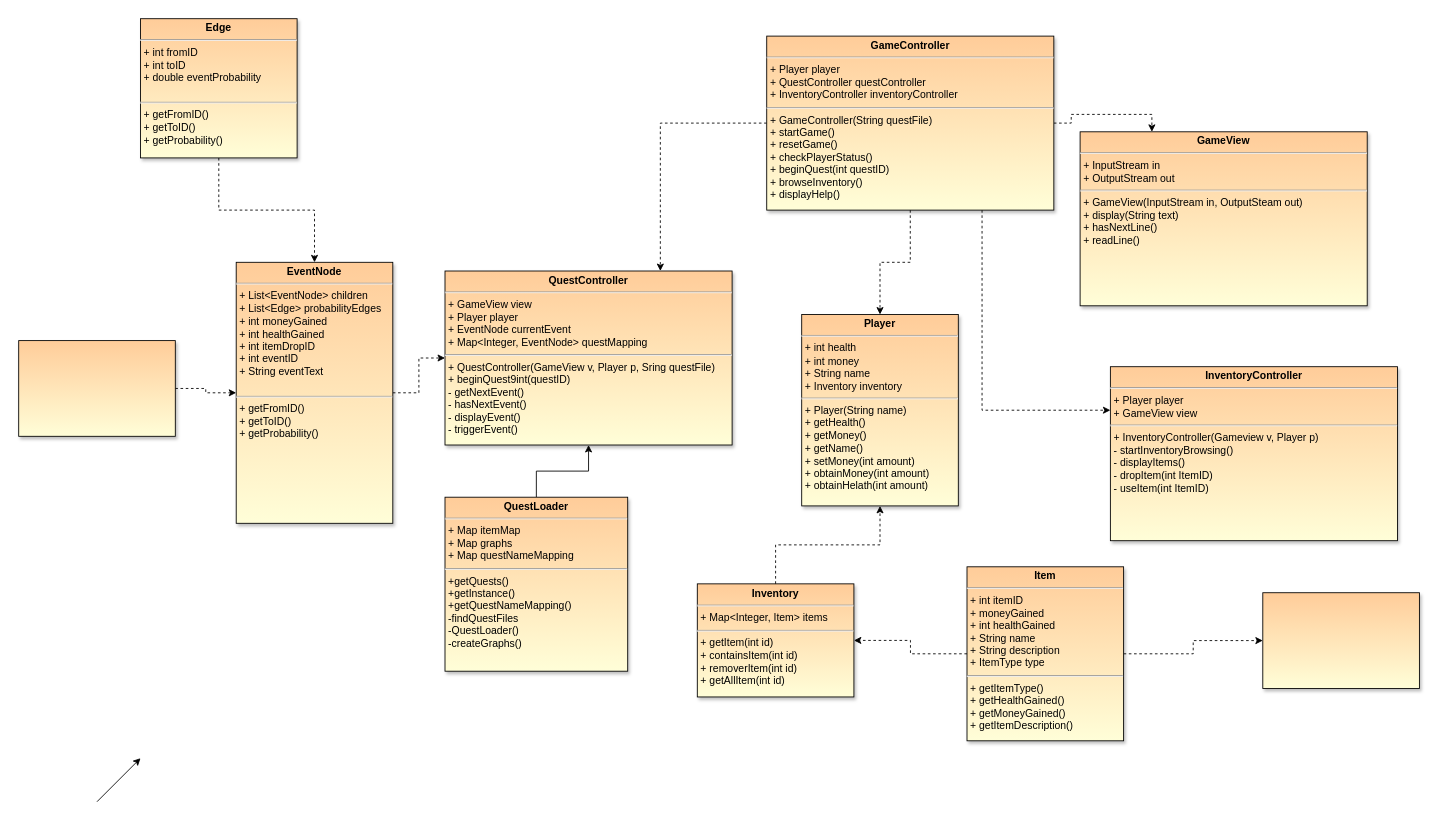
This 1440x824 diagram has some shape labels left out. The centre of each missing label's shape, as x and y in pixels:
"<<enumeration>> EventType + HEALTH_EVENT + MONEY_EVENT + TEXT_EVENT + ITEM_EVENT" belongs at point (97, 389).
"<<enumeration>> ItemType + HEALTH + MONEY + DESCRIPTION_ONLY" belongs at point (1341, 641).
